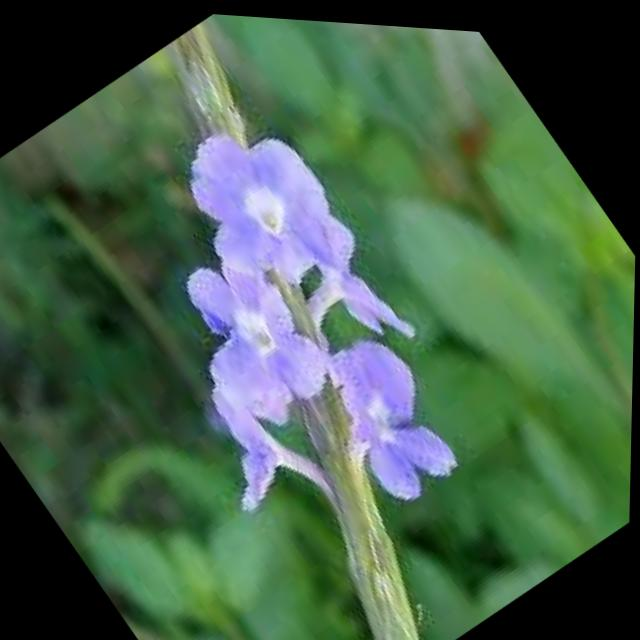Flower: (155, 74, 403, 346), (129, 201, 371, 458), (289, 298, 498, 530)
